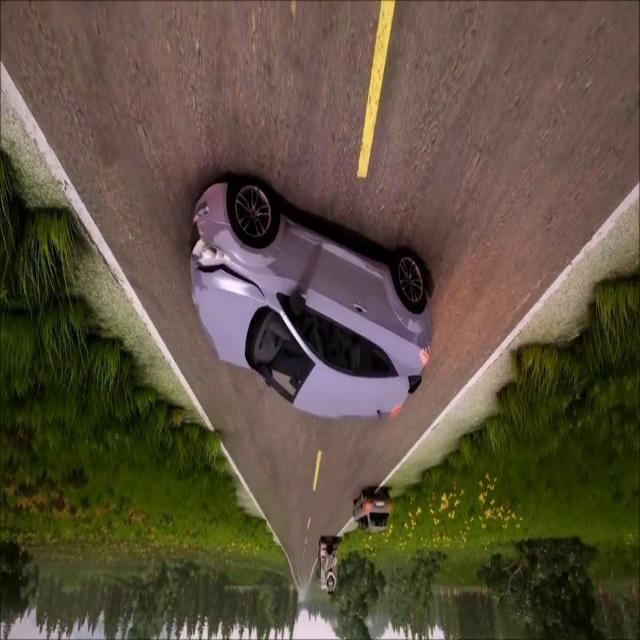vehicle: (156, 160, 452, 450)
